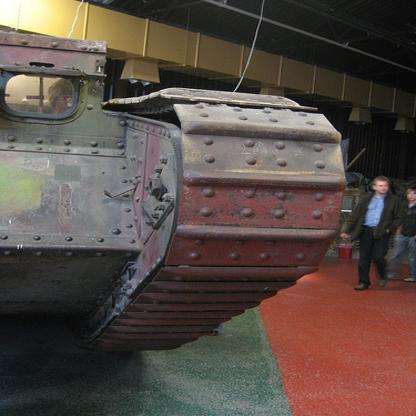Tank: (1, 87, 345, 367)
